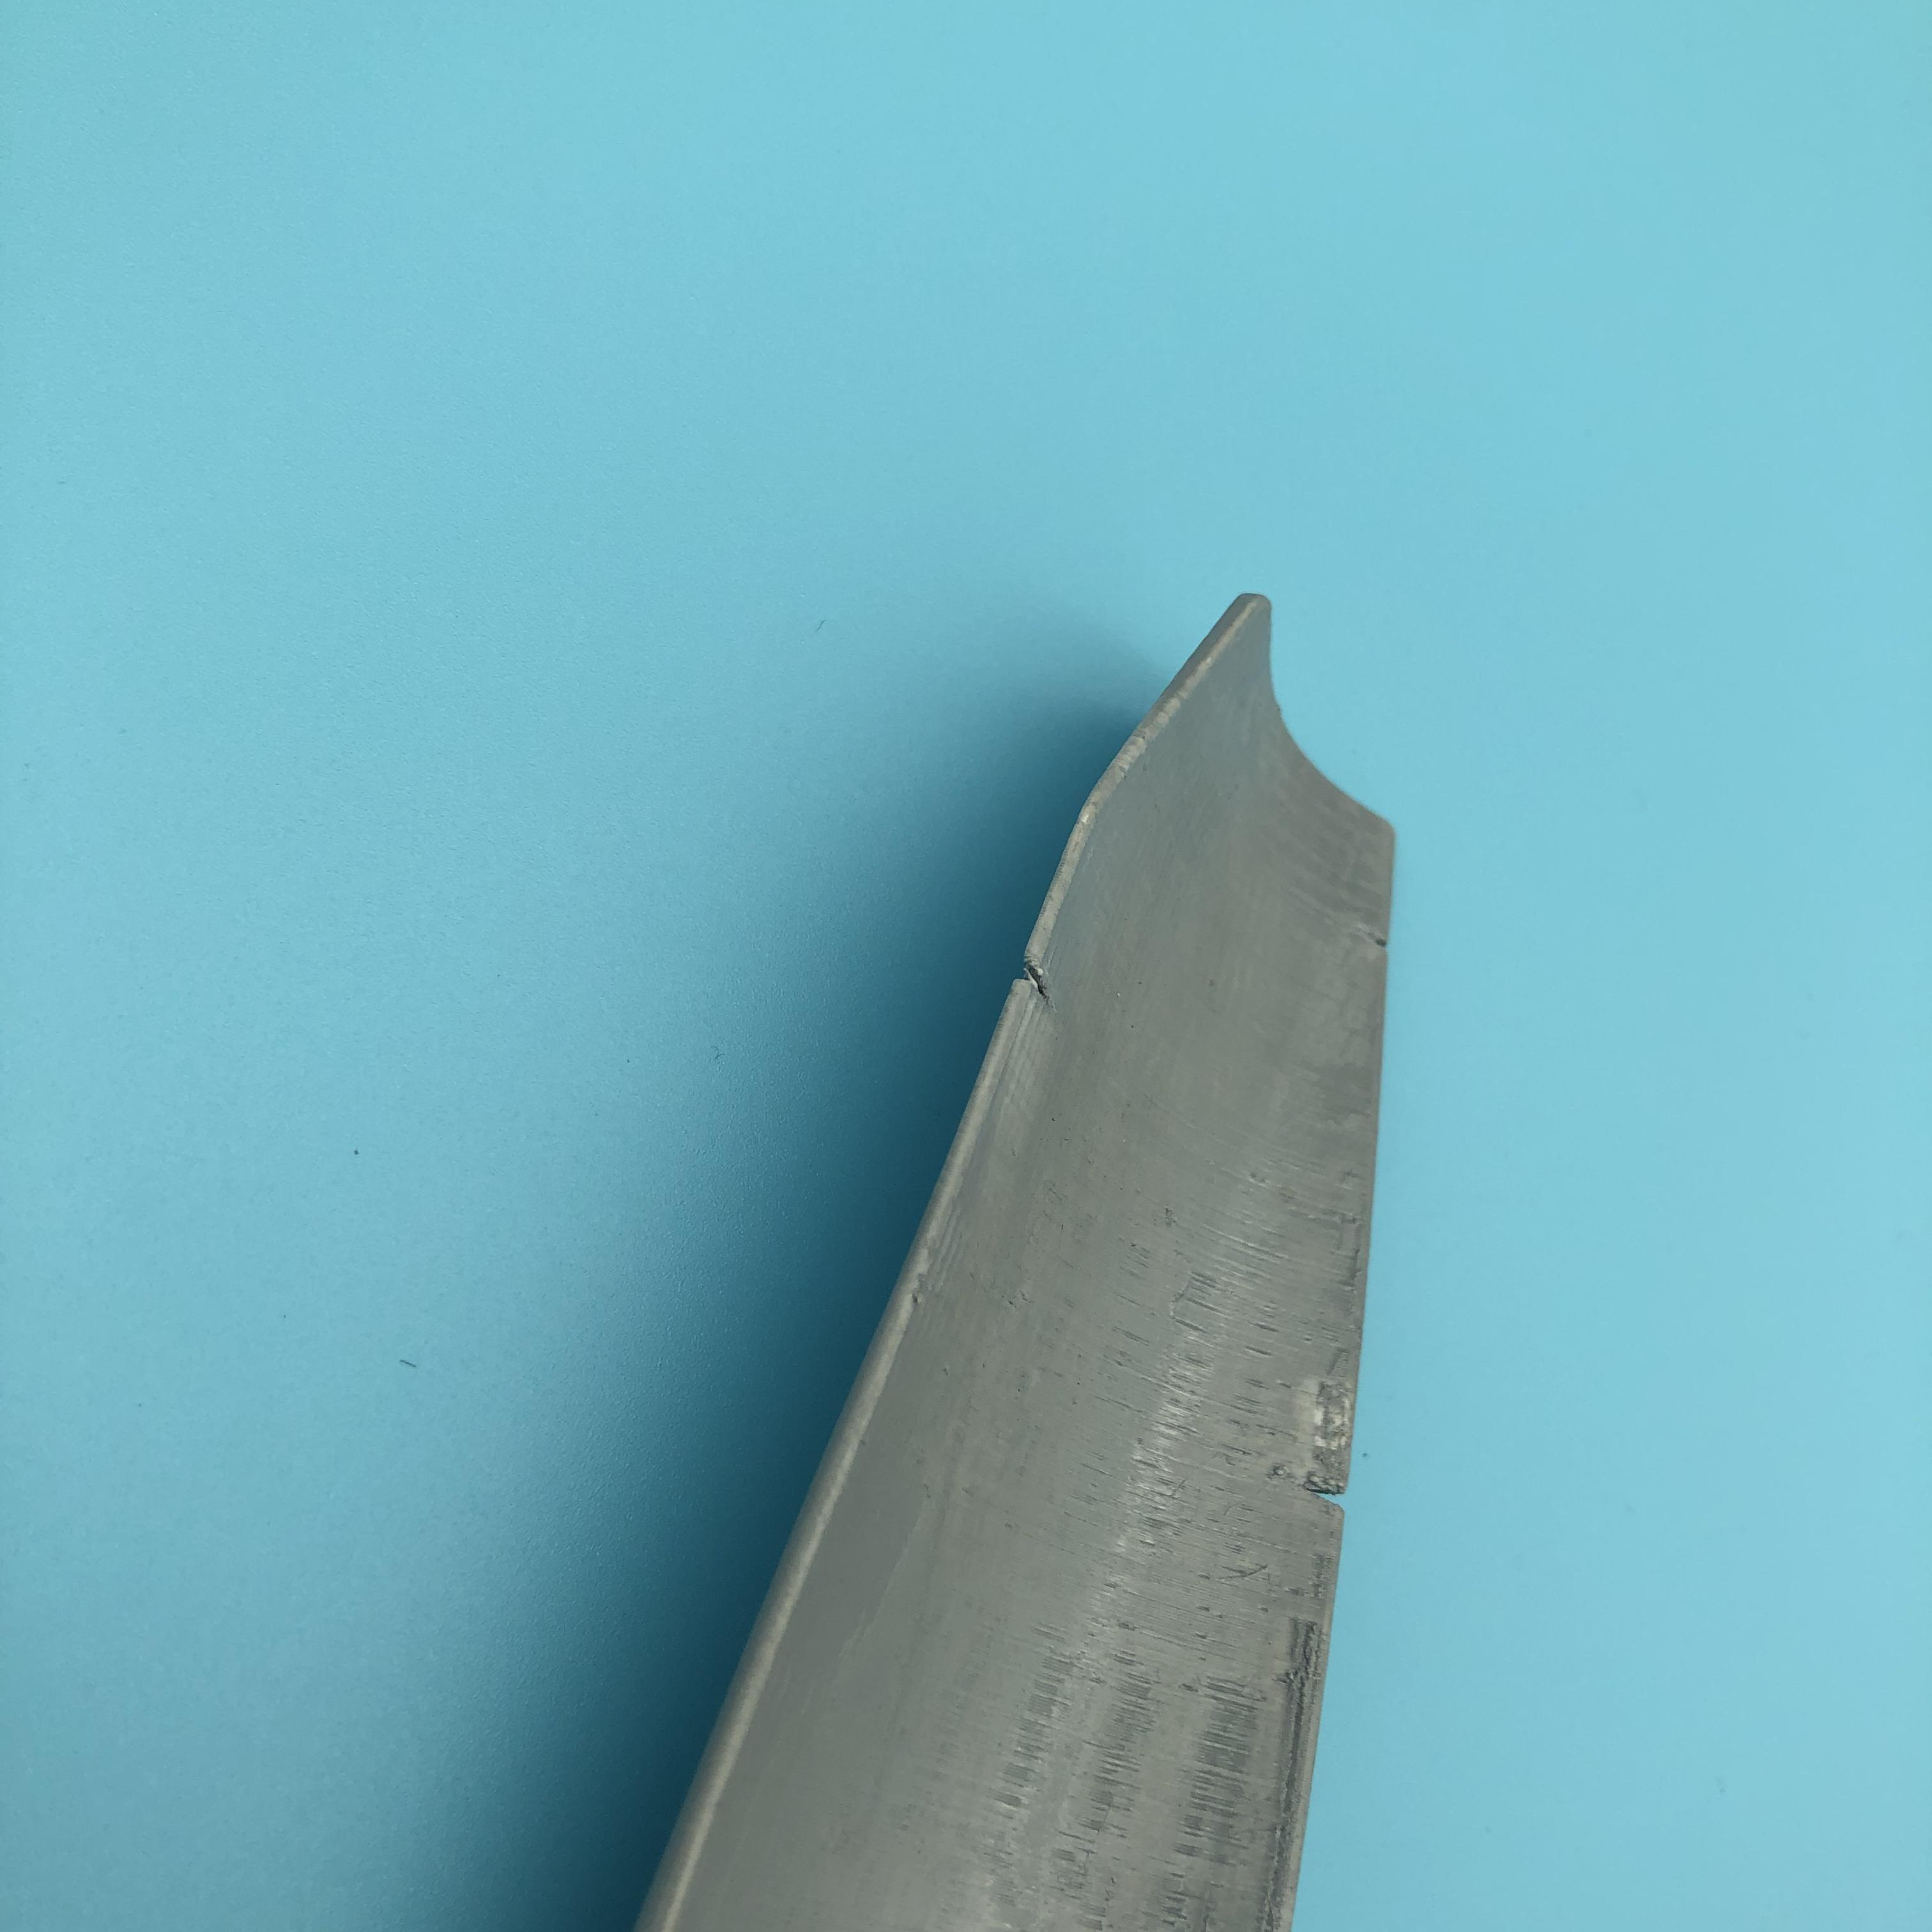groove: (1024, 957, 1063, 1010), (1313, 1476, 1348, 1511), (1366, 924, 1385, 955)
